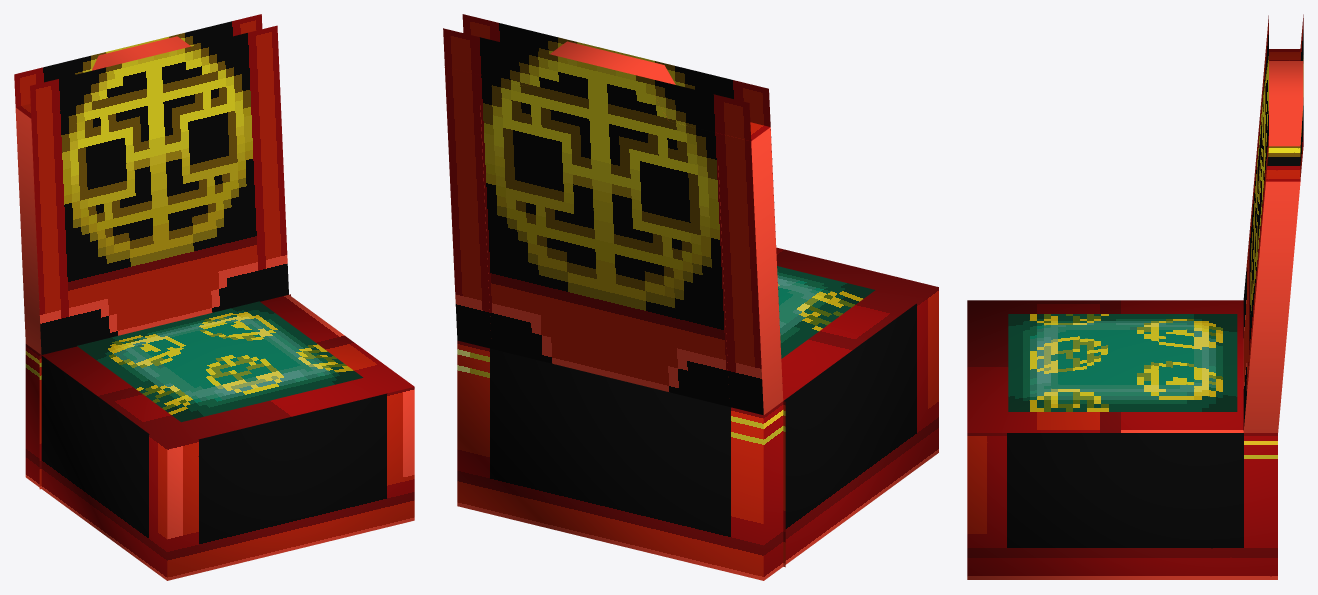
3 renders of one model, left to right at view 1: azimuth 30°, elevation 25°; view 2: azimuth 150°, elevation 25°; view 3: azimuth 270°, elevation 25°, orthographic. The views are drawn at different scales.
Parts seen in each view (by area): view 1: 3094IMRL07_03; view 2: 3094IMRL07_03; view 3: 3094IMRL07_03.
Boxes of the visible parts, x1,y1,x2,y2 form: 3094IMRL07_03: (14, 14, 414, 580); 3094IMRL07_03: (443, 14, 938, 580); 3094IMRL07_03: (967, 14, 1303, 579).
Bounding box in the file's own units: 0.8643 × 1.3 × 0.9116.
Materials: 3 (3 with a texture image).
